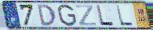7: (19, 4, 36, 27)
D: (36, 4, 57, 27)
G: (57, 4, 78, 27)
L: (115, 5, 135, 27), (96, 5, 116, 27)
Z: (76, 5, 98, 27)
